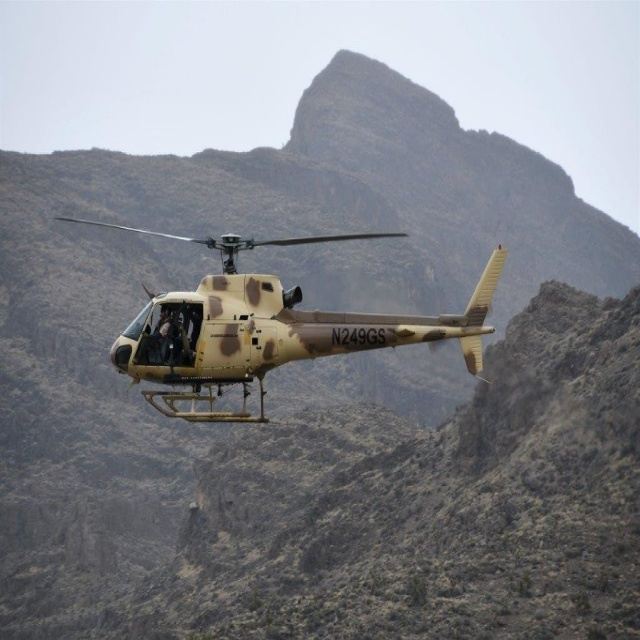helicopter: (54, 217, 503, 421)
